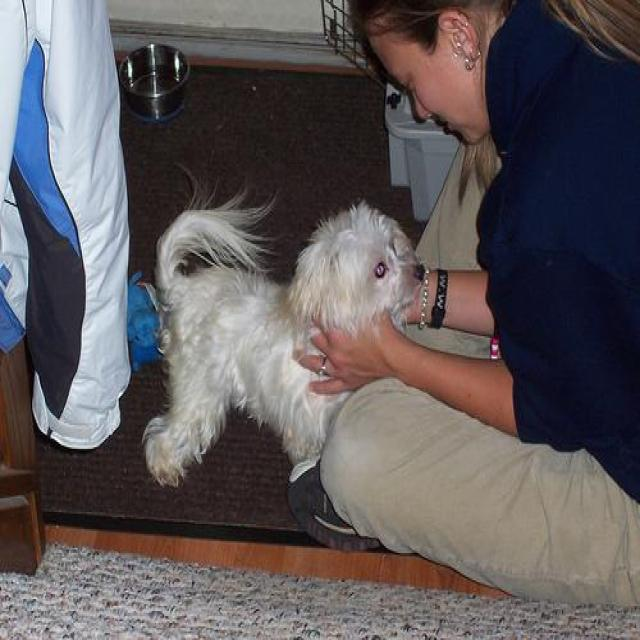maltese_dog: (139, 160, 425, 485)
